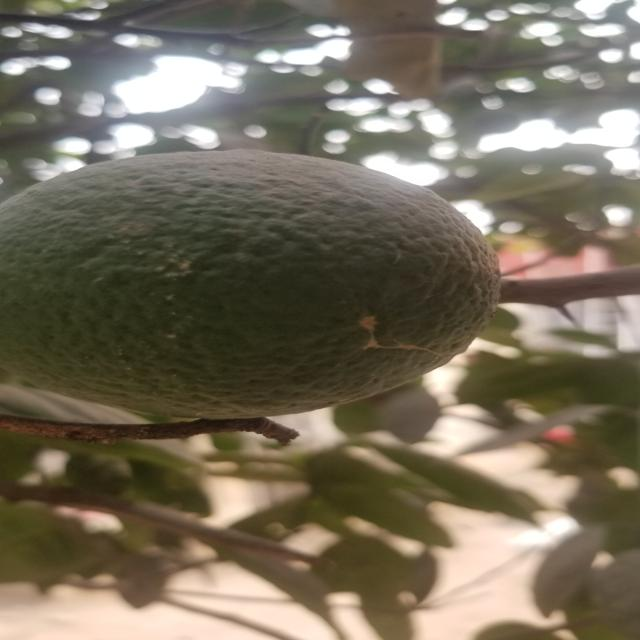Unripe: (0, 152, 500, 421)
